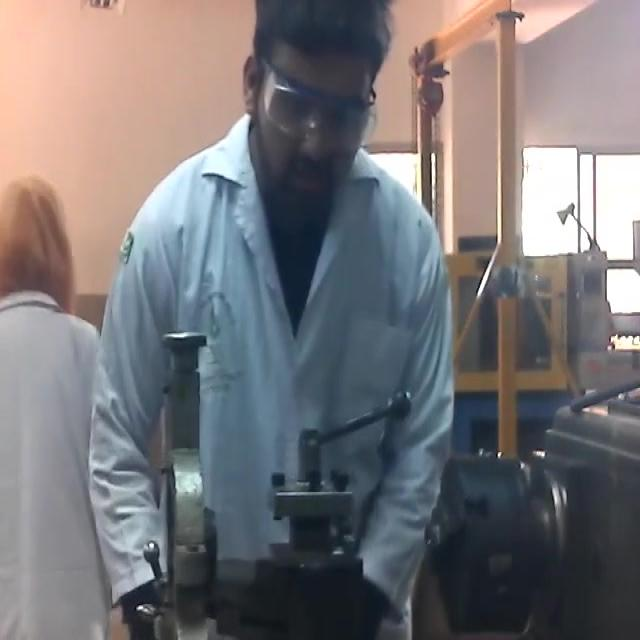googles: (259, 62, 380, 150)
labcoat: (90, 116, 458, 632), (0, 294, 106, 640)
